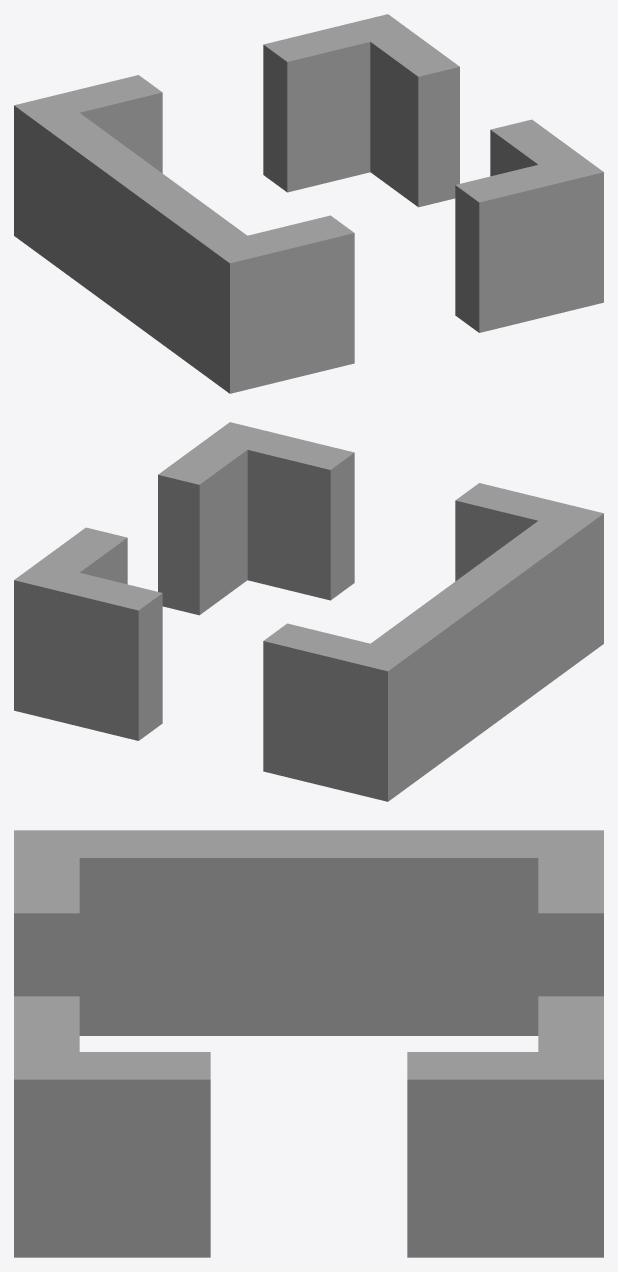
The model's file is 3walls.obj.
3 renders of one model, top to bottom at view 1: azimuth 30°, elevation 25°; view 2: azimuth 150°, elevation 25°; view 3: azimuth 270°, elevation 25°, orthographic. The views are drawn at different scales.
Bounding box in the file's own units: 0.9 × 0.3 × 0.9.
1 material, 1 textured.
